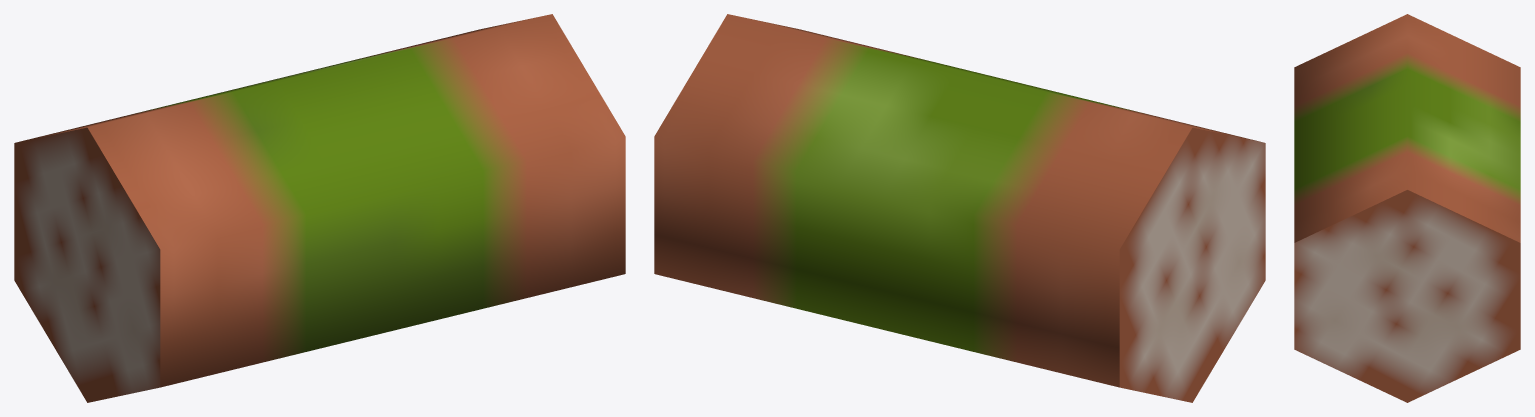
Rendered from Pixel_Misc_S_0024.fbx.
The picture shows the model from 3 angles, left to right: view 1: azimuth 30°, elevation 25°; view 2: azimuth 150°, elevation 25°; view 3: azimuth 270°, elevation 25°; orthographic projection. The views are drawn at different scales.
Parts seen in each view (by area): view 1: Pixel_Misc_S_0024; view 2: Pixel_Misc_S_0024; view 3: Pixel_Misc_S_0024.
Boxes of the visible parts, bbox=[...] form: Pixel_Misc_S_0024: bbox=[14, 14, 625, 402]; Pixel_Misc_S_0024: bbox=[654, 14, 1265, 402]; Pixel_Misc_S_0024: bbox=[1294, 14, 1520, 402].
Bounding box in the file's own units: 11.94 × 6.76 × 6.49.
